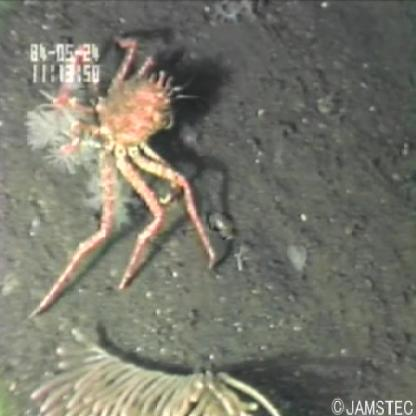Bio: (24, 32, 223, 322), (26, 322, 289, 416)
